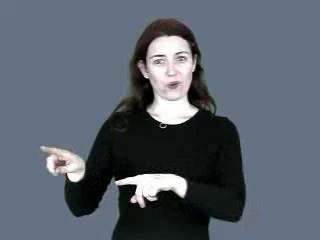go: (33, 139, 200, 212)
